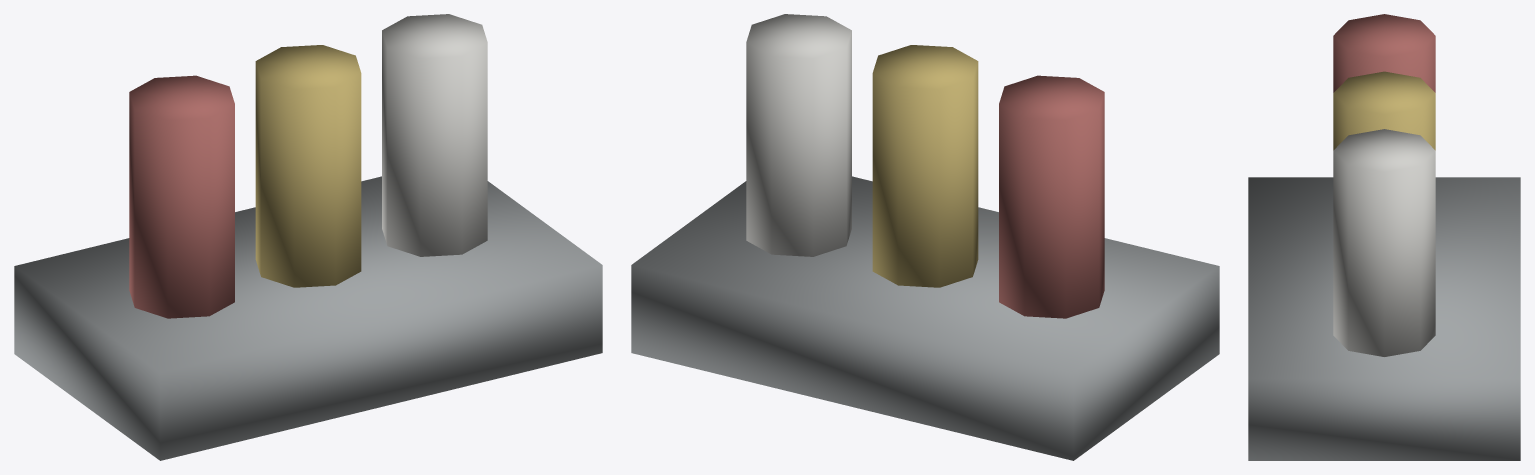
Rendered from condiment_station.glb.
The picture shows the model from 3 angles, left to right: view 1: azimuth 30°, elevation 25°; view 2: azimuth 150°, elevation 25°; view 3: azimuth 270°, elevation 25°; orthographic projection. The views are drawn at different scales.
Visible parts, largest first — view 1: world; view 2: world; view 3: world.
Boxes of the visible parts, x1,y1,x2,y2 form: world: [14, 14, 602, 460]; world: [631, 14, 1219, 460]; world: [1248, 14, 1520, 460].
Size of the model in its own units: 0.42 by 0.26 by 0.24.
